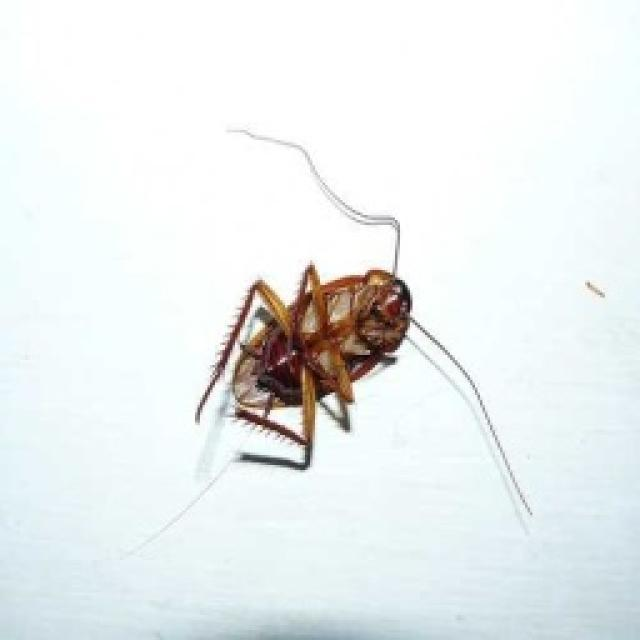cockroach: (148, 222, 464, 488)
